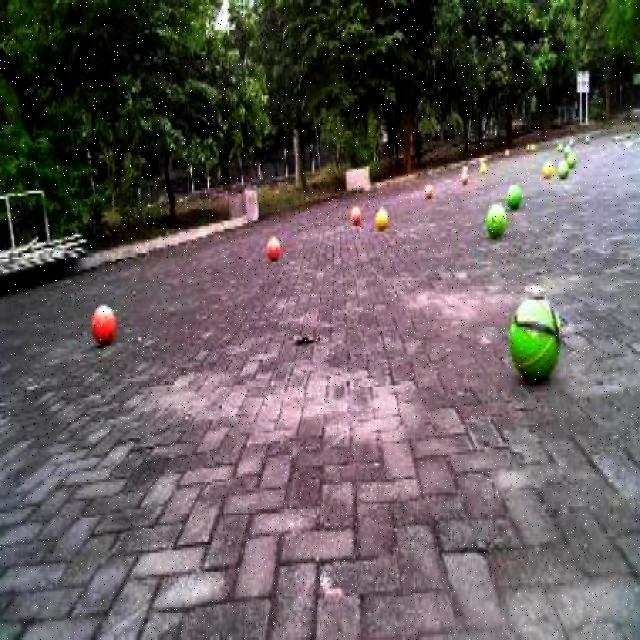buoy: (502, 279, 569, 394), (83, 290, 123, 350), (480, 190, 510, 248), (501, 172, 527, 218), (260, 224, 284, 270), (371, 196, 394, 237), (344, 192, 367, 230), (538, 144, 558, 186), (417, 170, 438, 208), (553, 154, 571, 186), (454, 164, 472, 188), (561, 146, 577, 170), (581, 132, 591, 146), (478, 162, 488, 174), (529, 140, 536, 154), (524, 140, 531, 154), (503, 145, 510, 159), (568, 134, 574, 148)
